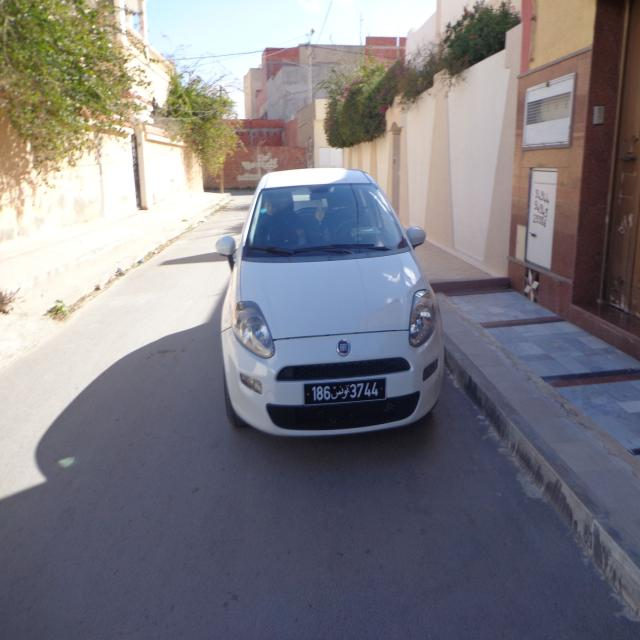LP: (303, 378, 386, 402)
